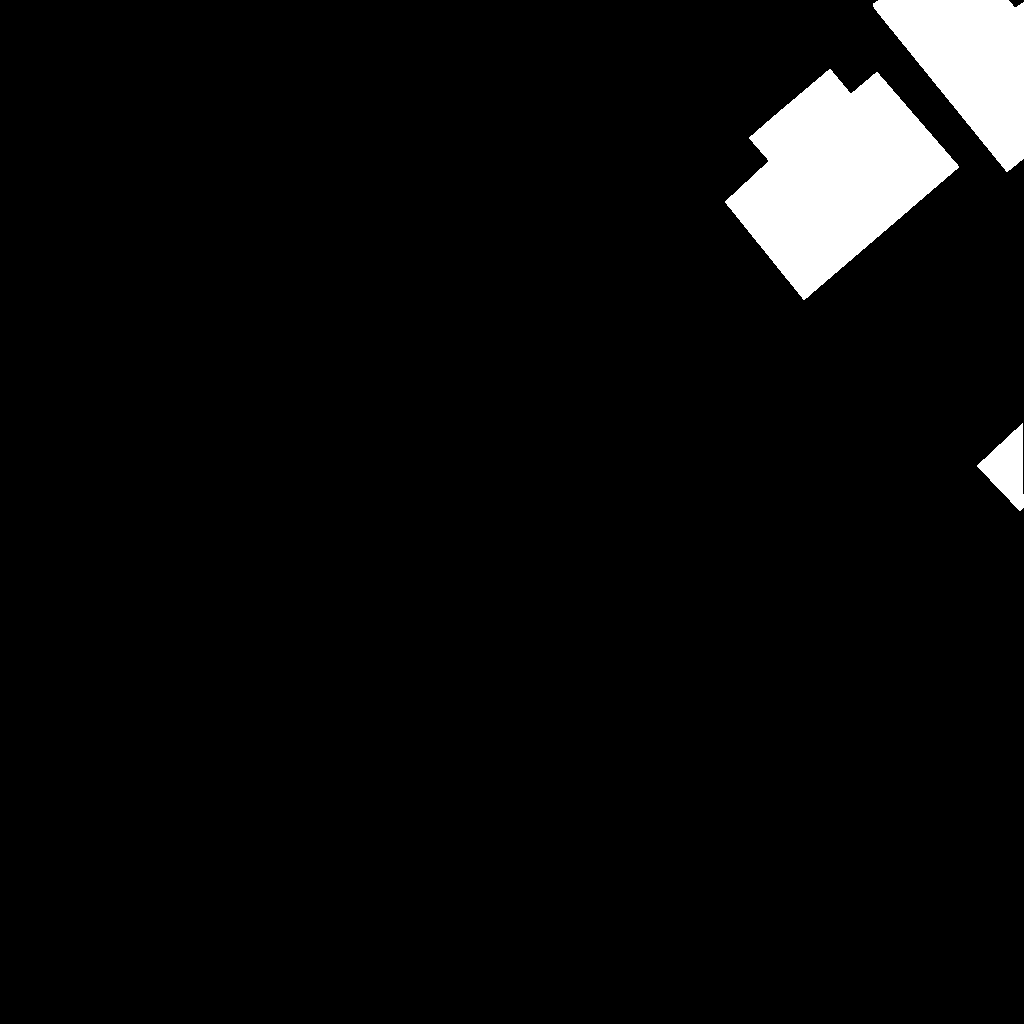building: (725, 69, 960, 301), (872, 0, 1024, 173), (977, 423, 1024, 512)
